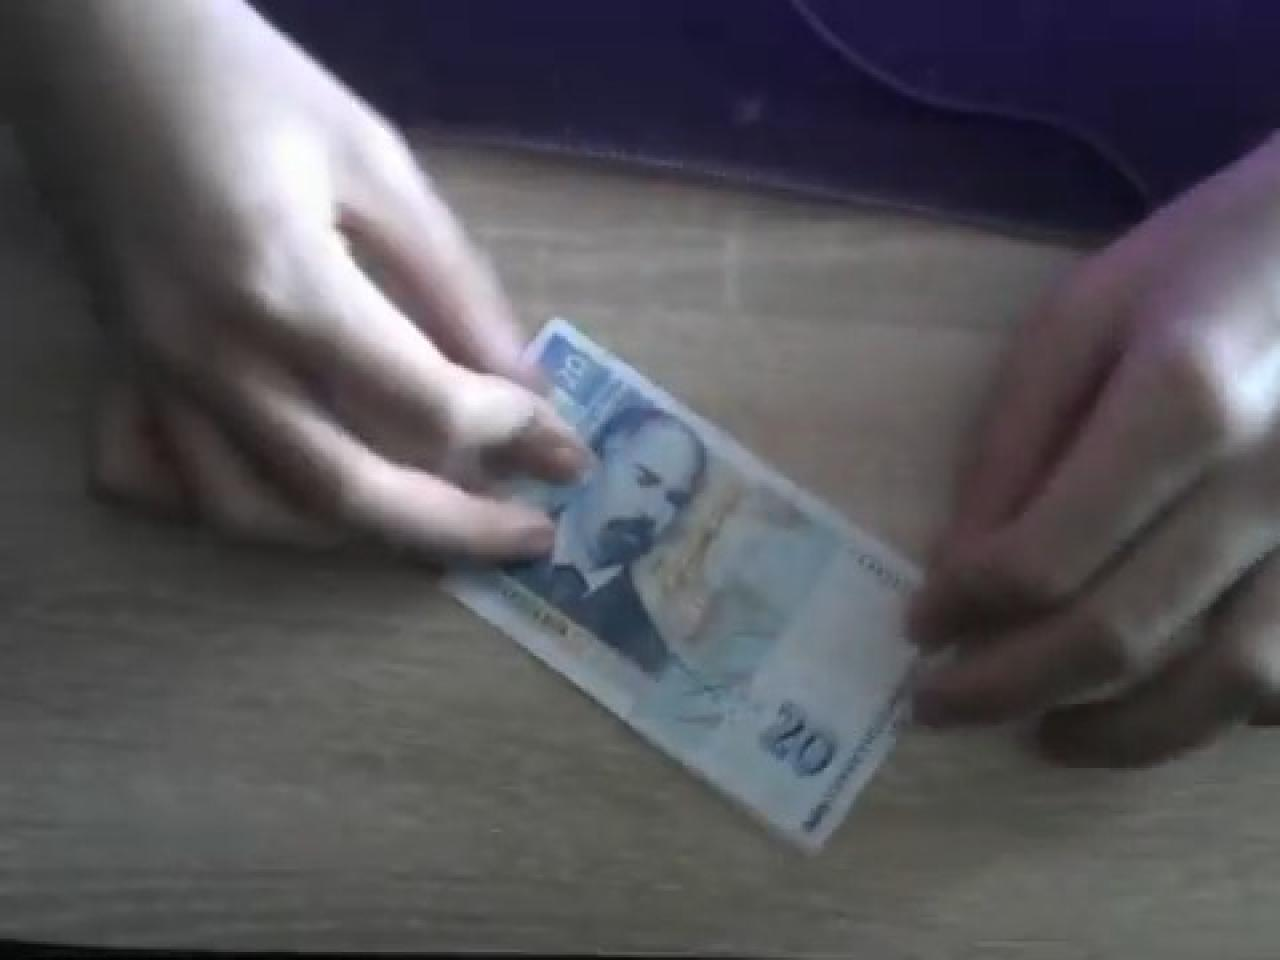20leva: (434, 312, 936, 856)
